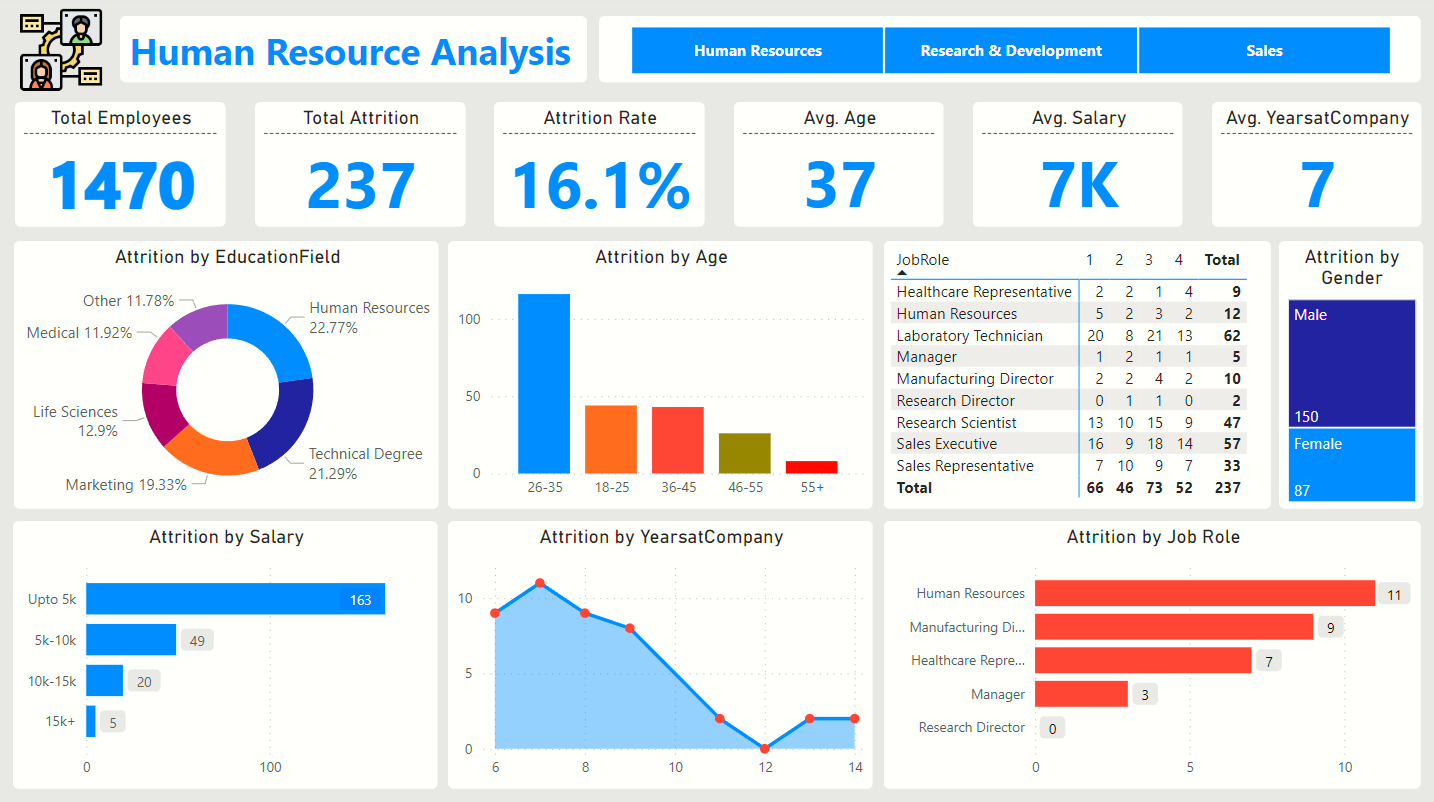

What the dashboard file says about the page in this screenshot:
{"tool":"powerbi","page":{"name":"Page 1","canvas":[1280,720],"ordinal":0},"visuals":[{"type":"card","title":"Total Employees","fields":{"Values":["Sum(HR_Analytics.EmployeeCount)"]},"box":[34.2,92.3,183.7,109.4],"z":0},{"type":"card","title":"Total Attrition","fields":{"Values":["Sum(HR_Analytics.AttritionCount)"]},"box":[243.4,92.3,183.7,109.4],"z":1000},{"type":"card","title":"Attrition Rate","fields":{"Values":["HR_Analytics.AttritionRate"]},"box":[452.7,92.4,183.7,109.4],"z":2000},{"type":"card","title":"Avg. Age","fields":{"Values":["Avg(HR_Analytics.Age)"]},"box":[661.9,92.6,183.5,109.2],"z":3000},{"type":"card","title":"Avg. Salary","fields":{"Values":["Avg(HR_Analytics.MonthlyIncome)"]},"box":[870.9,92.6,183.5,109.2],"z":4000},{"type":"card","title":"Avg. YearsatCompany","fields":{"Values":["Avg(HR_Analytics.YearsAtCompany)"]},"box":[1079.9,92.6,182.6,109.2],"z":5000},{"type":"donutChart","fields":{"Y":["Avg(HR_Analytics.AttritionCount)"],"Category":["HR_Analytics.EducationField"]},"box":[33.1,214.1,371.3,234.2],"z":6000},{"type":"clusteredColumnChart","title":"Attrition by Age","fields":{"Category":["HR_Analytics.AgeGroup"],"Y":["Sum(HR_Analytics.AttritionCount)"]},"box":[412.3,214.1,371.3,234.2],"z":7000},{"type":"pivotTable","fields":{"Columns":["HR_Analytics.JobSatisfaction"],"Values":["Sum(HR_Analytics.AttritionCount)"],"Rows":["HR_Analytics.JobRole"]},"box":[793.3,214.1,338.1,234.2],"z":8000},{"type":"clusteredBarChart","title":"Attrition by Salary","fields":{"Category":["HR_Analytics.SalarySlab"],"Y":["Sum(HR_Analytics.AttritionCount)"]},"box":[32.3,458.7,371.3,234.2],"z":9000},{"type":"areaChart","title":"Attrition by YearsatCompany","fields":{"Category":["HR_Analytics.YearsAtCompany"],"Y":["Sum(HR_Analytics.AttritionCount)"]},"box":[412.4,458.7,371.3,234.2],"z":10000},{"type":"barChart","title":"Attrition by Job Role","fields":{"Category":["HR_Analytics.JobRole"],"Y":["Sum(HR_Analytics.AttritionCount)"]},"box":[793.3,458.7,469.2,234.2],"z":11000},{"type":"treemap","title":"Attrition by Gender","fields":{"Group":["HR_Analytics.Gender"],"Values":["Sum(HR_Analytics.AttritionCount)"]},"box":[1138.5,214.1,125.8,234.2],"z":12000},{"type":"image","box":[32.3,0,83.9,92.6],"z":12001},{"type":"textbox","box":[125.8,17.5,408,57.7],"z":12003},{"type":"slicer","fields":{"Values":["HR_Analytics.Department"]},"box":[544.3,17.5,718.2,57.7],"z":12004}]}

Visuals, with their boxes in screenshot pixels (x1, y1, x2, y2), scaled from the page's 1280x720 canvas onto the 1434x802 screenshot:
"Total Employees" card: [38, 103, 244, 225]
"Total Attrition" card: [273, 103, 478, 225]
"Attrition Rate" card: [507, 103, 713, 225]
"Avg. Age" card: [742, 103, 947, 225]
"Avg. Salary" card: [976, 103, 1181, 225]
"Avg. YearsatCompany" card: [1210, 103, 1414, 225]
donutChart - Avg(HR_Analytics.AttritionCount) x HR_Analytics.EducationField: [37, 238, 453, 499]
"Attrition by Age" clusteredColumnChart: [462, 238, 878, 499]
pivotTable - HR_Analytics.JobSatisfaction x Sum(HR_Analytics.AttritionCount): [889, 238, 1268, 499]
"Attrition by Salary" clusteredBarChart: [36, 511, 452, 772]
"Attrition by YearsatCompany" areaChart: [462, 511, 878, 772]
"Attrition by Job Role" barChart: [889, 511, 1414, 772]
"Attrition by Gender" treemap: [1275, 238, 1416, 499]
image: [36, 0, 130, 103]
textbox: [141, 19, 598, 84]
slicer - HR_Analytics.Department: [610, 19, 1414, 84]
